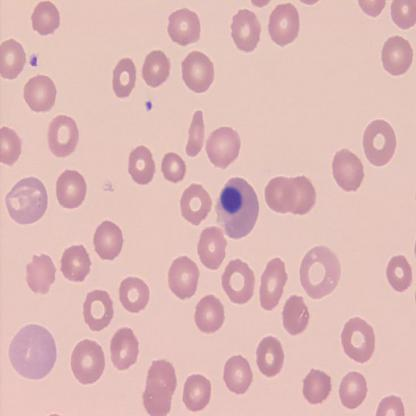NRC: (219, 185, 243, 217)
